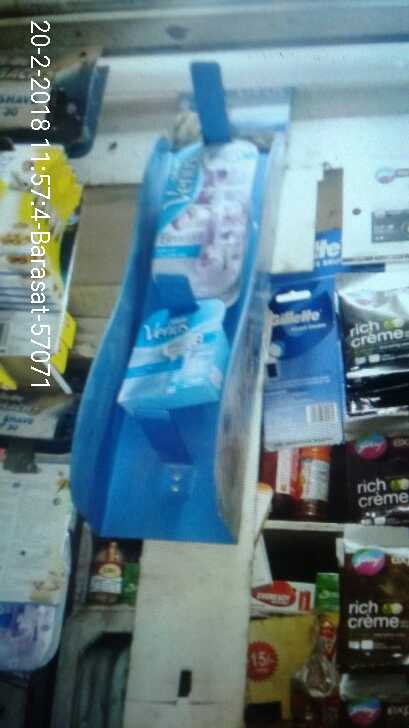venus: (161, 125, 253, 301), (119, 306, 221, 410)
